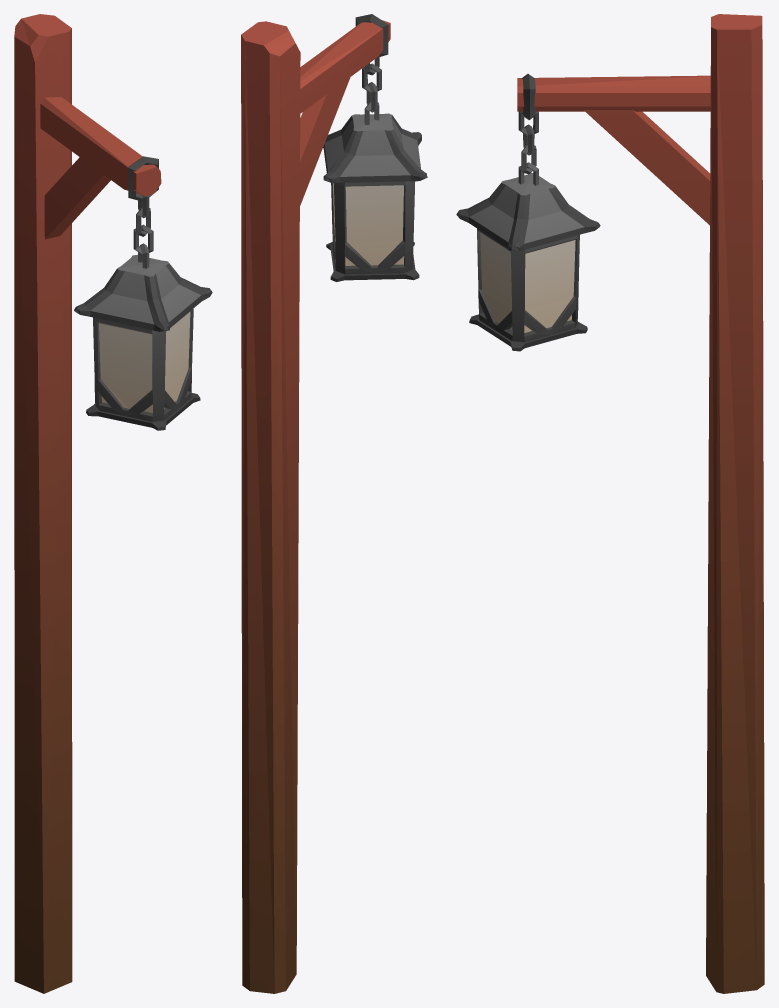
The model's file is lantern_metal.glb.
3 renders of one model, left to right at view 1: azimuth 30°, elevation 25°; view 2: azimuth 150°, elevation 25°; view 3: azimuth 270°, elevation 25°, orthographic.
Parts seen in each view (by area): view 1: Lantern_Metal_mesh1; view 2: Lantern_Metal_mesh1; view 3: Lantern_Metal_mesh1.
Boxes of the visible parts, <box> form: Lantern_Metal_mesh1: <box>14,14,212,993</box>; Lantern_Metal_mesh1: <box>241,14,427,993</box>; Lantern_Metal_mesh1: <box>456,14,764,993</box>.
Size of the model in its own units: 0.567 by 4.17 by 1.21.
Materials: 1 (1 with a texture image).
